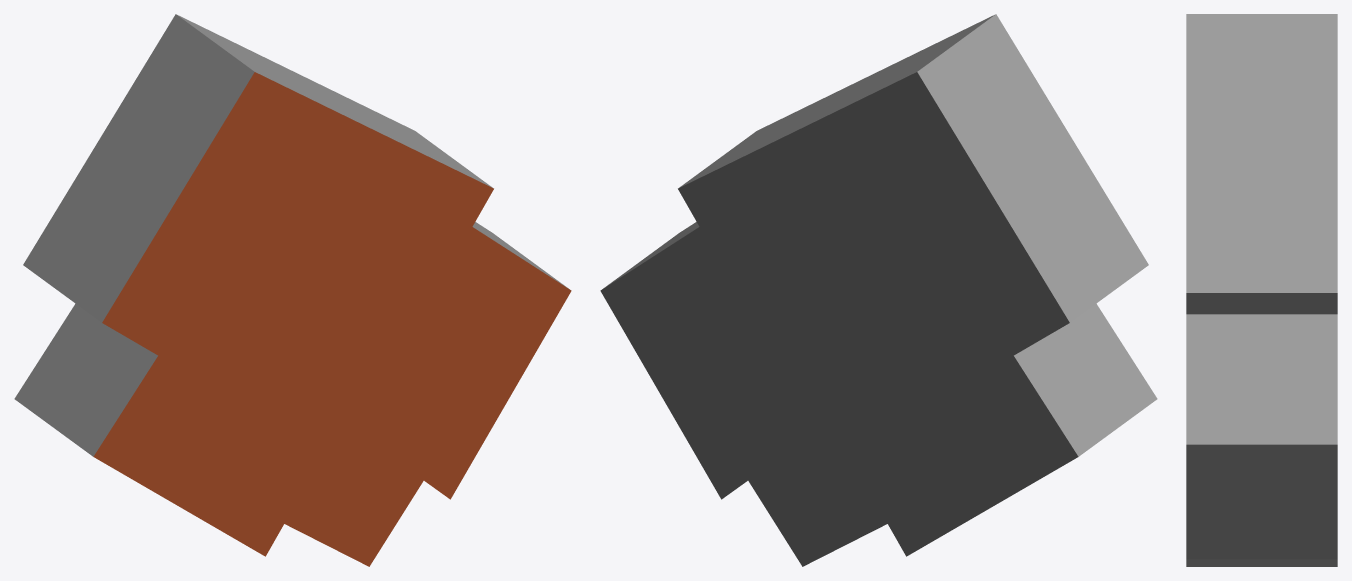
Rendered from construction_0611_assumed_A_Casa_h6m.obj.
3 renders of one model, left to right at view 1: azimuth 30°, elevation 25°; view 2: azimuth 150°, elevation 25°; view 3: azimuth 270°, elevation 25°, orthographic. The views are drawn at different scales.
Parts seen in each view (by area): view 1: construction_0611_assumed_A_Casa; view 2: construction_0611_assumed_A_Casa; view 3: construction_0611_assumed_A_Casa.
Part boxes in pixels (bbox=[...]): construction_0611_assumed_A_Casa: bbox=[14, 14, 571, 566]; construction_0611_assumed_A_Casa: bbox=[600, 14, 1157, 566]; construction_0611_assumed_A_Casa: bbox=[1186, 14, 1337, 566].
Size of the model in its own units: 20.96 by 21.9 by 6.
